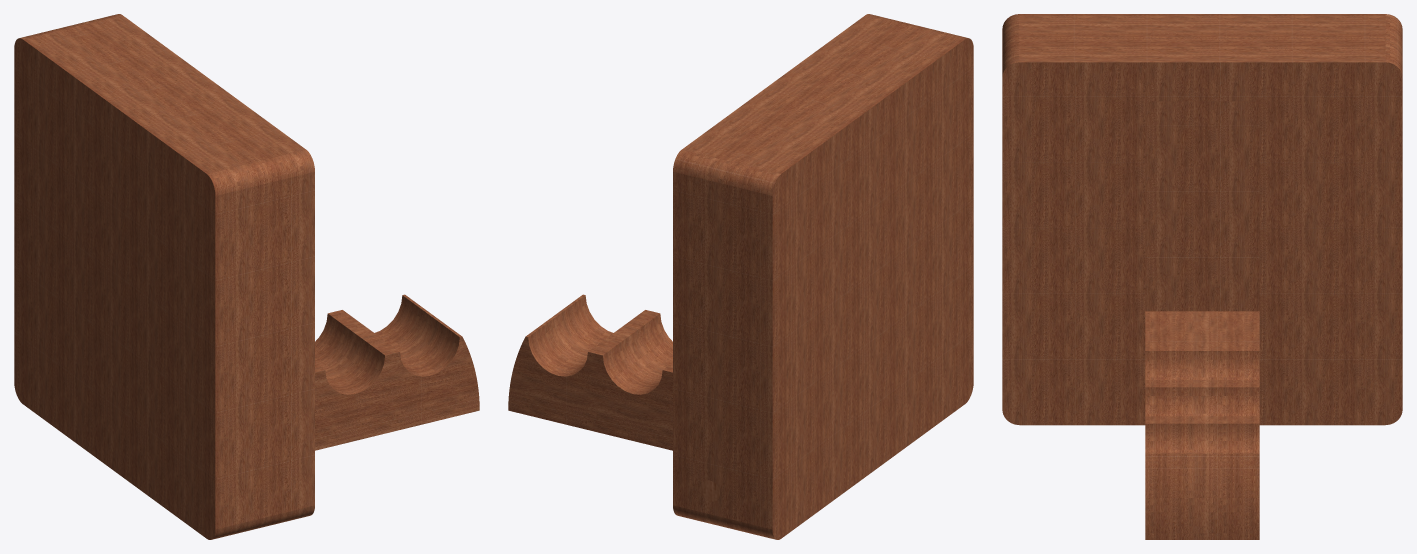
The model's file is gancho-ery.glb.
3 renders of one model, left to right at view 1: azimuth 30°, elevation 25°; view 2: azimuth 150°, elevation 25°; view 3: azimuth 270°, elevation 25°, orthographic.
Bounding box in the file's own units: 0.135 × 0.14 × 0.14.
Materials: 2 (2 with a texture image).
